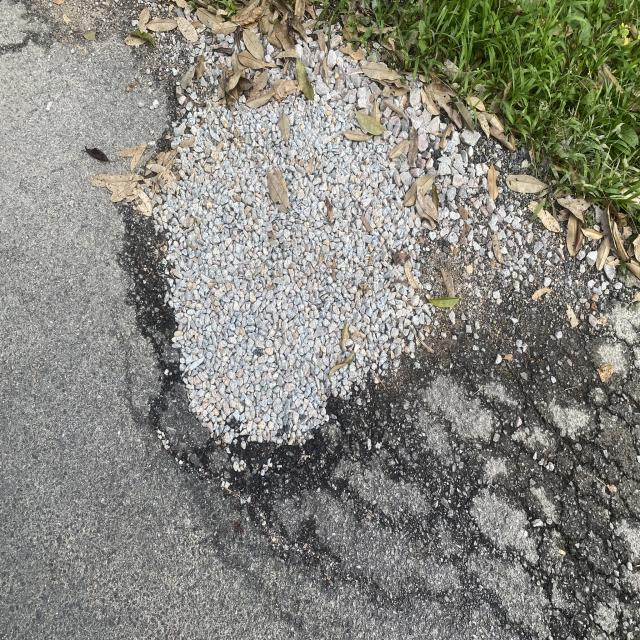pothole: (122, 42, 248, 559)
